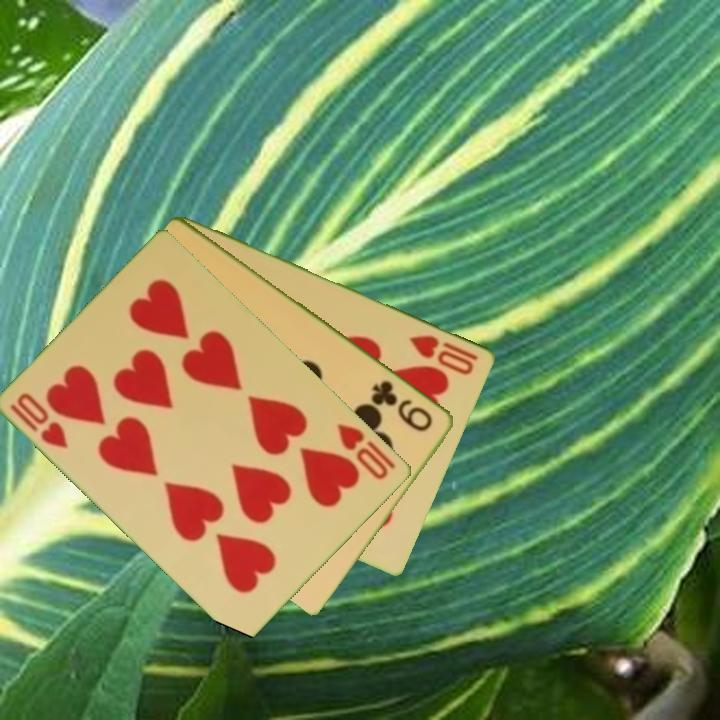10h: (7, 389, 72, 452), (334, 419, 392, 483), (406, 331, 482, 378)
9c: (368, 376, 436, 435)
